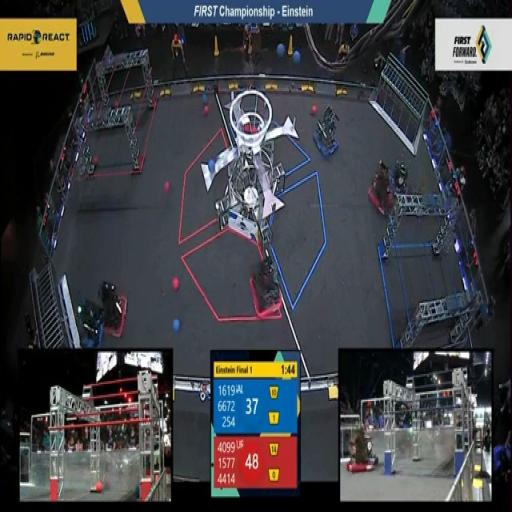robot: (248, 256, 286, 326), (97, 276, 129, 346), (74, 289, 108, 351), (365, 154, 396, 219), (311, 101, 341, 163), (389, 156, 413, 218)
